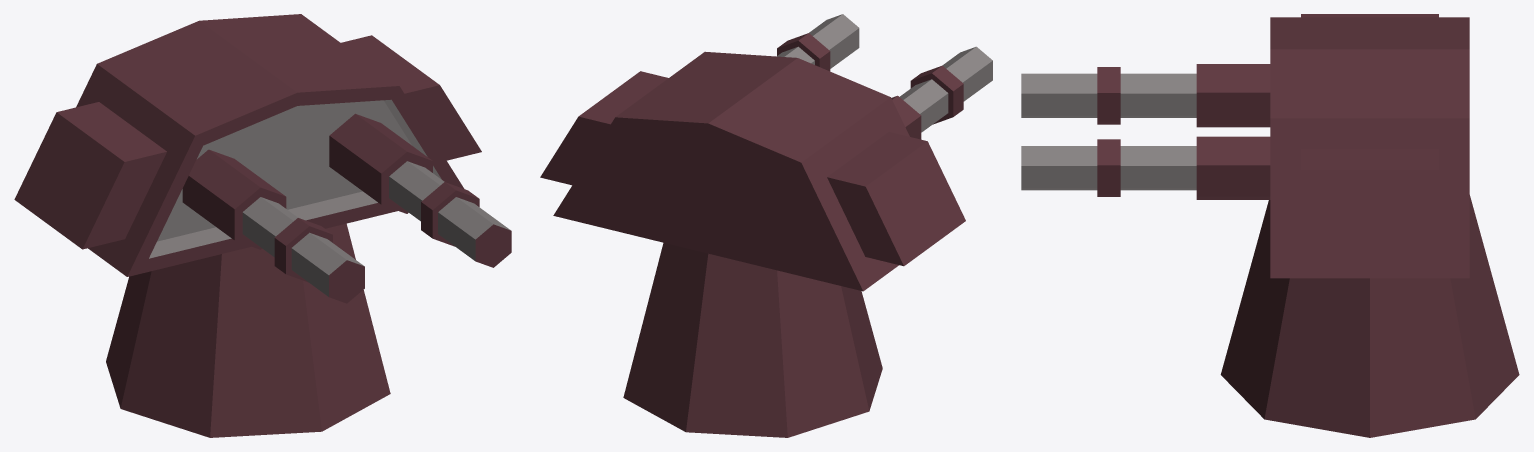
File: scifi-turret-head-cannon-small.fbx
3 views of the same model, side by side, from view 1: azimuth 30°, elevation 25°; view 2: azimuth 150°, elevation 25°; view 3: azimuth 270°, elevation 25° (orthographic). The views are drawn at different scales.
Parts seen in each view (by area): view 1: scifi-turret-head-cannon-small; view 2: scifi-turret-head-cannon-small; view 3: scifi-turret-head-cannon-small.
Boxes of the visible parts, box(x1,y1,x2,y2) form: scifi-turret-head-cannon-small: box(14, 14, 511, 437); scifi-turret-head-cannon-small: box(540, 14, 992, 437); scifi-turret-head-cannon-small: box(1021, 14, 1519, 437).
Bounding box in the file's own units: 0.9391 × 0.7208 × 0.9999.
